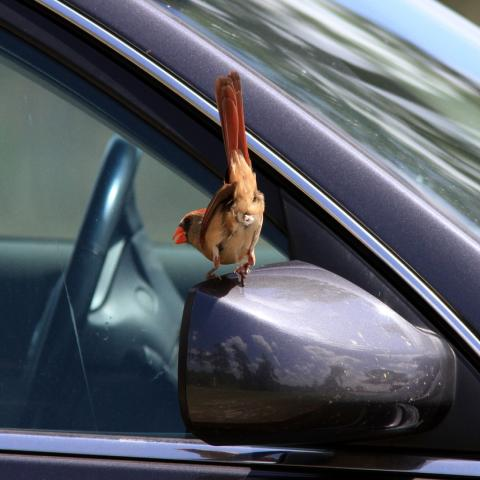bird: (170, 68, 267, 289)
